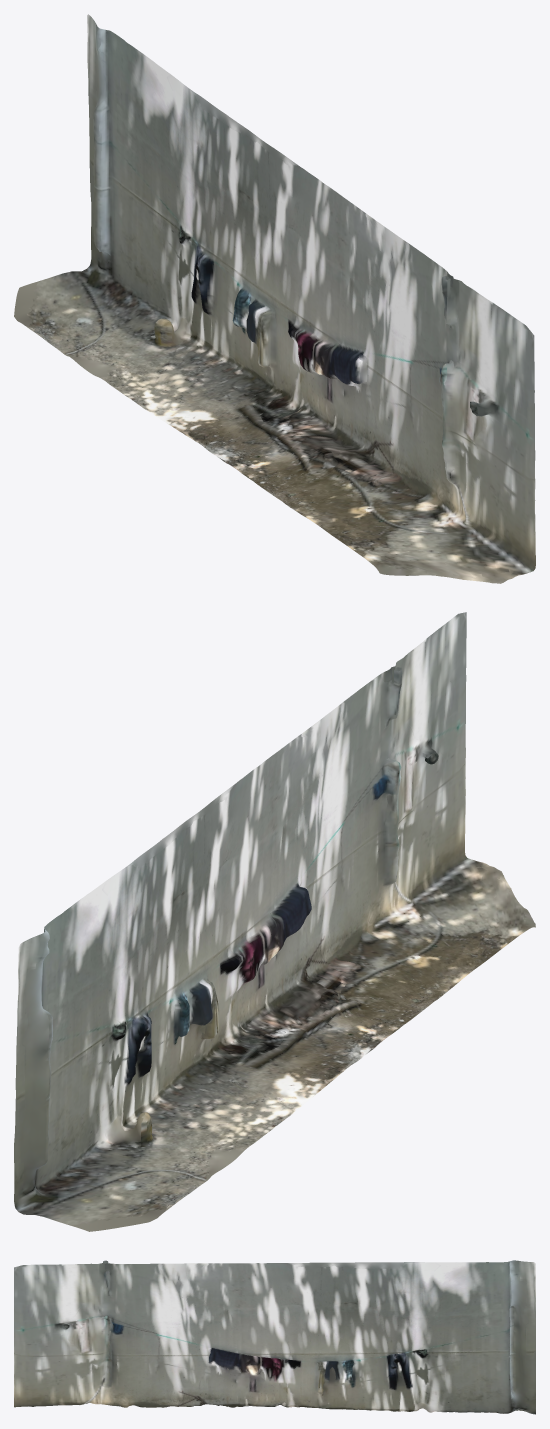
Rendered from clothes_line.glb.
3 views of the same model, one above another, from view 1: azimuth 30°, elevation 25°; view 2: azimuth 150°, elevation 25°; view 3: azimuth 270°, elevation 25° (orthographic). The views are drawn at different scales.
Visible parts, largest first — view 1: meshes[0]; view 2: meshes[0]; view 3: meshes[0].
Part boxes in pixels (x1=…): meshes[0]: x1=14, y1=14, x2=535, y2=583; meshes[0]: x1=14, y1=612, x2=535, y2=1231; meshes[0]: x1=14, y1=1260, x2=535, y2=1414.
Bounding box in the file's own units: 0.0158 × 0.0351 × 0.1071.
Materials: 1 (1 with a texture image).
